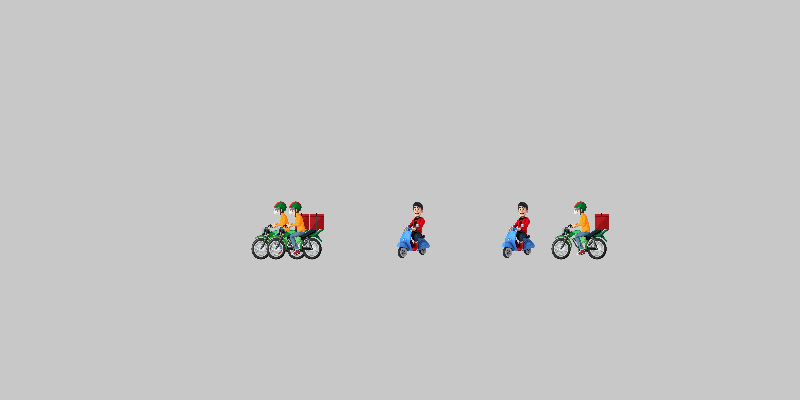helmet: (250, 200, 310, 260), (265, 200, 325, 260), (550, 200, 610, 260)
no_helmet: (385, 200, 445, 260), (490, 200, 550, 260)
